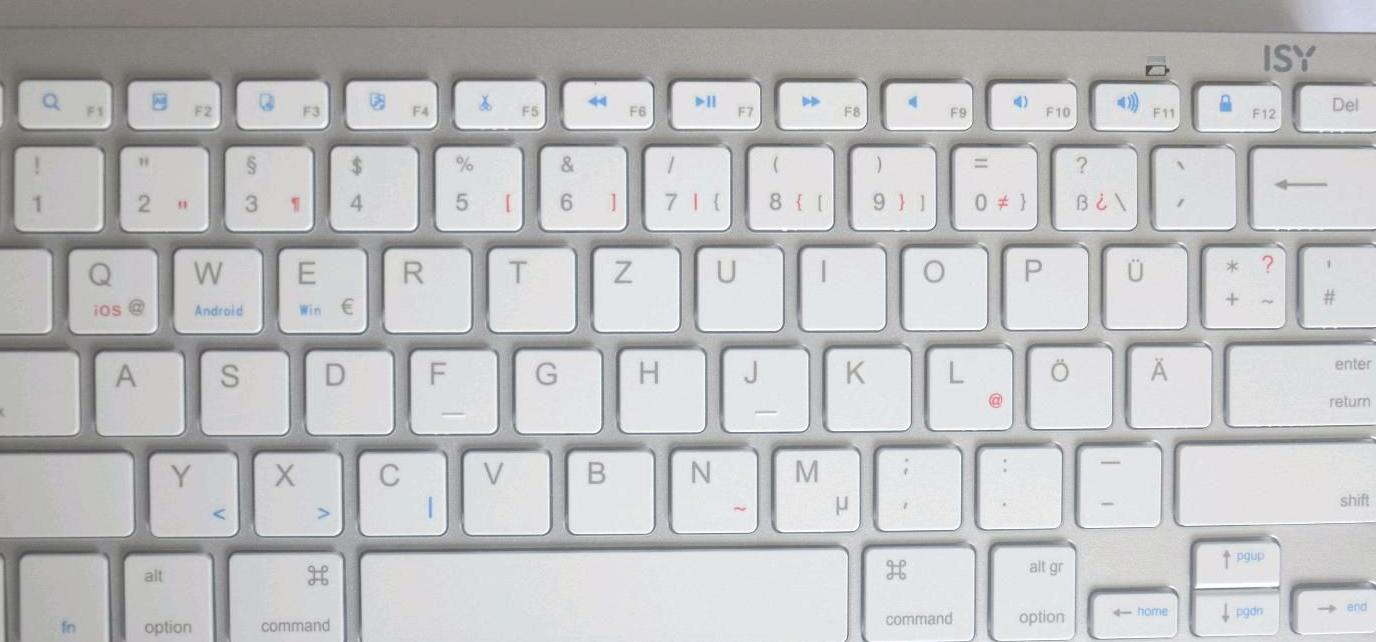0: (946, 139, 1036, 230)
1: (9, 140, 102, 230)
2: (113, 140, 209, 231)
3: (218, 140, 314, 231)
4: (326, 138, 417, 229)
5: (428, 139, 522, 231)
6: (533, 139, 627, 230)
7: (638, 140, 732, 231)
8: (741, 139, 835, 231)
9: (843, 139, 936, 231)
a: (89, 344, 183, 434)
accent: (1147, 139, 1235, 227)
ae: (1122, 338, 1212, 427)
alt-left: (117, 546, 216, 642)
altgr-right: (985, 536, 1079, 641)
b: (559, 443, 654, 532)
c: (352, 444, 447, 535)
caret: (1, 139, 48, 230)
comma: (868, 439, 960, 529)
d: (298, 343, 392, 434)
del: (1245, 140, 1376, 228)
e: (271, 241, 368, 334)
enter: (1223, 334, 1376, 426)
f: (403, 342, 497, 434)
g: (508, 342, 600, 432)
h: (612, 342, 704, 431)
hash: (1297, 238, 1376, 326)
i: (794, 239, 885, 330)
j: (716, 341, 807, 431)
k: (819, 339, 910, 429)
keyboard: (1, 22, 1376, 642)
l: (922, 340, 1012, 430)
m: (766, 440, 859, 532)
minus: (1069, 439, 1161, 527)
n: (663, 443, 757, 532)
o: (895, 238, 987, 329)
oe: (1021, 339, 1111, 428)
p: (997, 238, 1087, 329)
plus: (1197, 239, 1286, 327)
point: (971, 440, 1061, 527)
q: (61, 241, 158, 334)
r: (377, 242, 471, 332)
s: (193, 343, 287, 434)
shift-left: (1, 444, 137, 538)
shift-lock: (1, 343, 89, 436)
shift-right: (1171, 434, 1376, 526)
space: (356, 540, 848, 642)
ss: (1046, 140, 1137, 229)
strg-left: (1, 547, 51, 642)
t: (483, 240, 575, 331)
tab: (1, 241, 75, 332)
u: (690, 239, 782, 331)
ue: (1096, 238, 1187, 329)
v: (456, 444, 550, 533)
w: (167, 238, 262, 333)
x: (249, 445, 343, 535)
y: (144, 446, 238, 536)
z: (586, 240, 680, 331)
